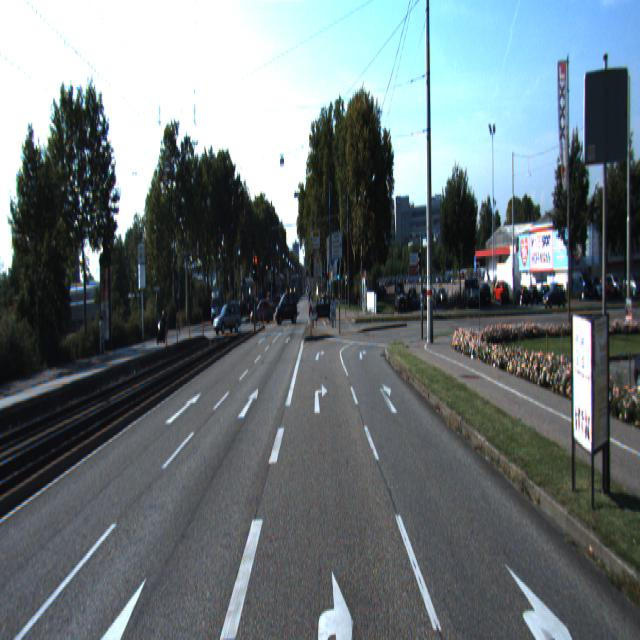Car: (213, 302, 243, 336), (251, 297, 274, 326), (157, 311, 168, 348)
